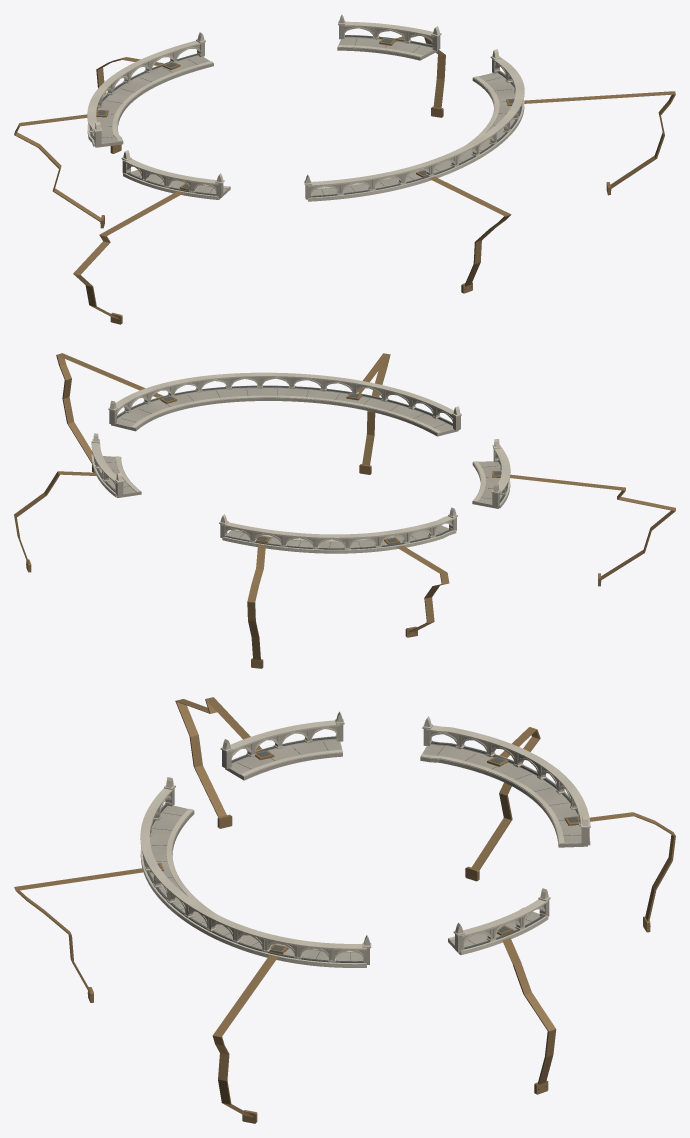
File: garden-terrace-grand.glb
3 views of the same model, one above another, from view 1: azimuth 30°, elevation 25°; view 2: azimuth 150°, elevation 25°; view 3: azimuth 270°, elevation 25° (orthographic). The views are drawn at different scales.
Parts seen in each view (by area): view 1: garden-terrace-grand / pale-coping, garden-terrace-grand / limestone, garden-terrace-grand / bronze, garden-terrace-grand / recess; view 2: garden-terrace-grand / pale-coping, garden-terrace-grand / limestone, garden-terrace-grand / bronze, garden-terrace-grand / recess; view 3: garden-terrace-grand / pale-coping, garden-terrace-grand / limestone, garden-terrace-grand / bronze, garden-terrace-grand / recess.
Part boxes in pixels (x1,y1,x2,y2): garden-terrace-grand / pale-coping: [87, 14, 524, 201]; garden-terrace-grand / limestone: [90, 25, 522, 201]; garden-terrace-grand / bronze: [14, 36, 675, 324]; garden-terrace-grand / recess: [89, 35, 611, 320]; garden-terrace-grand / pale-coping: [91, 372, 510, 553]; garden-terrace-grand / limestone: [92, 377, 505, 553]; garden-terrace-grand / bronze: [14, 353, 675, 668]; garden-terrace-grand / recess: [26, 385, 601, 665]; garden-terrace-grand / pale-coping: [140, 711, 590, 967]; garden-terrace-grand / limestone: [145, 724, 589, 967]; garden-terrace-grand / bronze: [14, 697, 675, 1123]; garden-terrace-grand / recess: [87, 736, 650, 1119].
Bounding box in the file's own units: 286 × 54.5 × 220.
